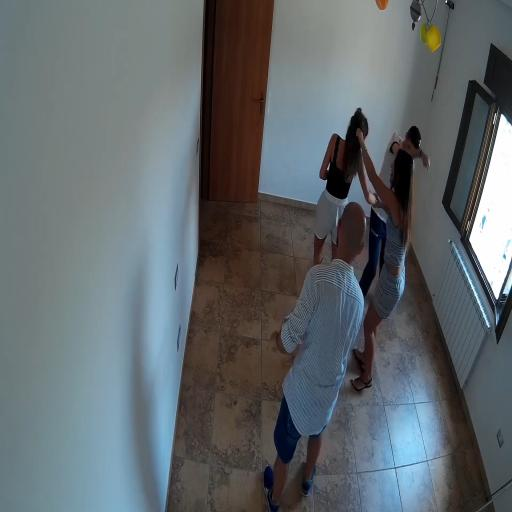violencia: (308, 96, 440, 404)
